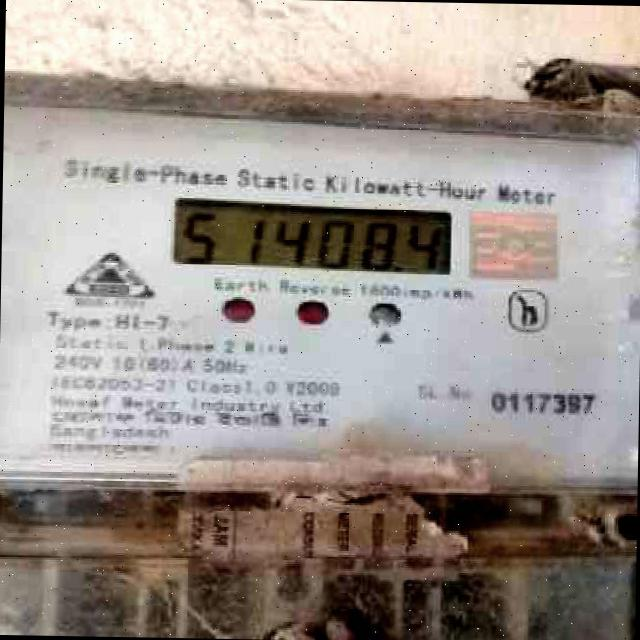LCD: (166, 192, 465, 282)
